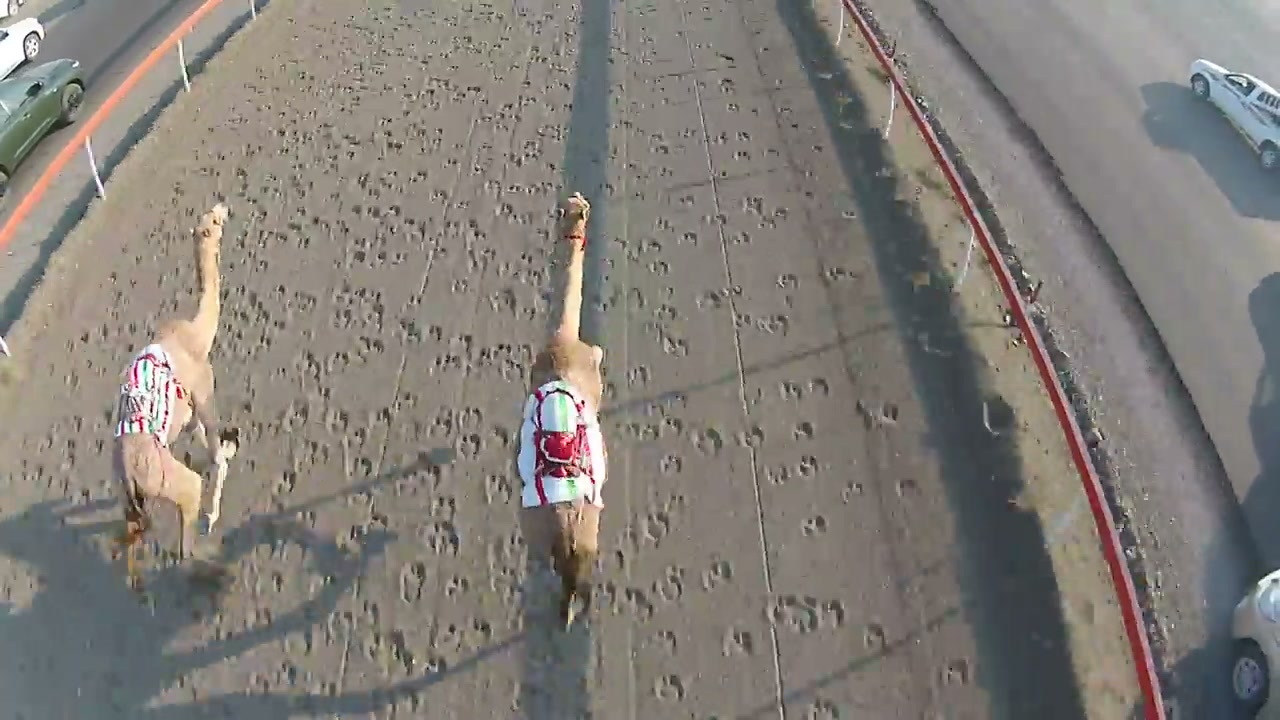animal_foot_print: (242, 102, 544, 719), (619, 140, 919, 719)
